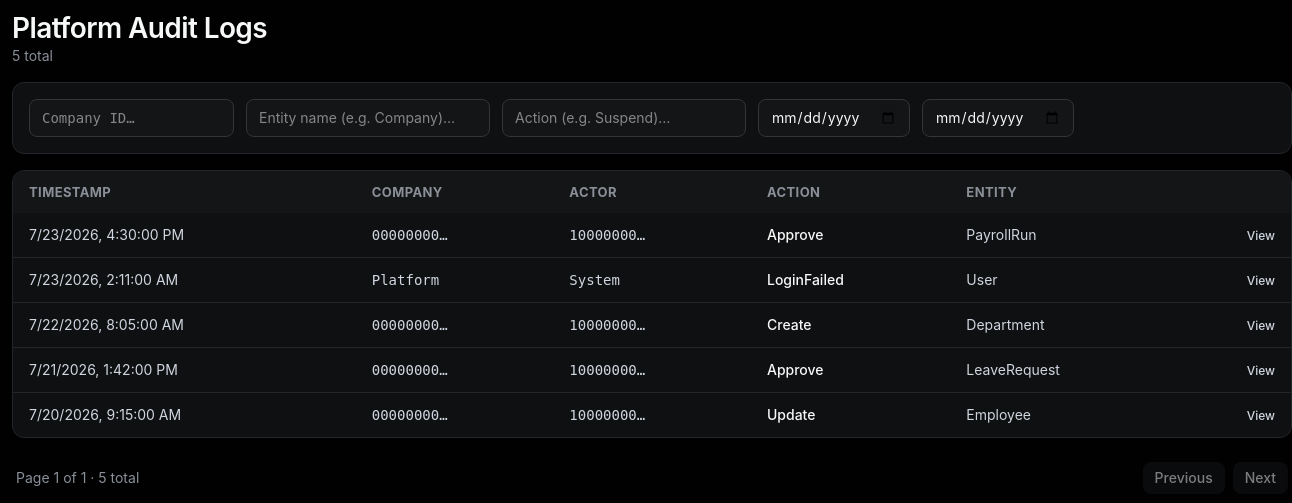
PlatformAuditLogsPage › filters by company id
The image size is (1292, 503).
Type "00000000-0000-0000-0000-00000000c001" into the field with placeholder "Company ID…" at (132, 118), box left=29, top=99, right=234, bottom=137
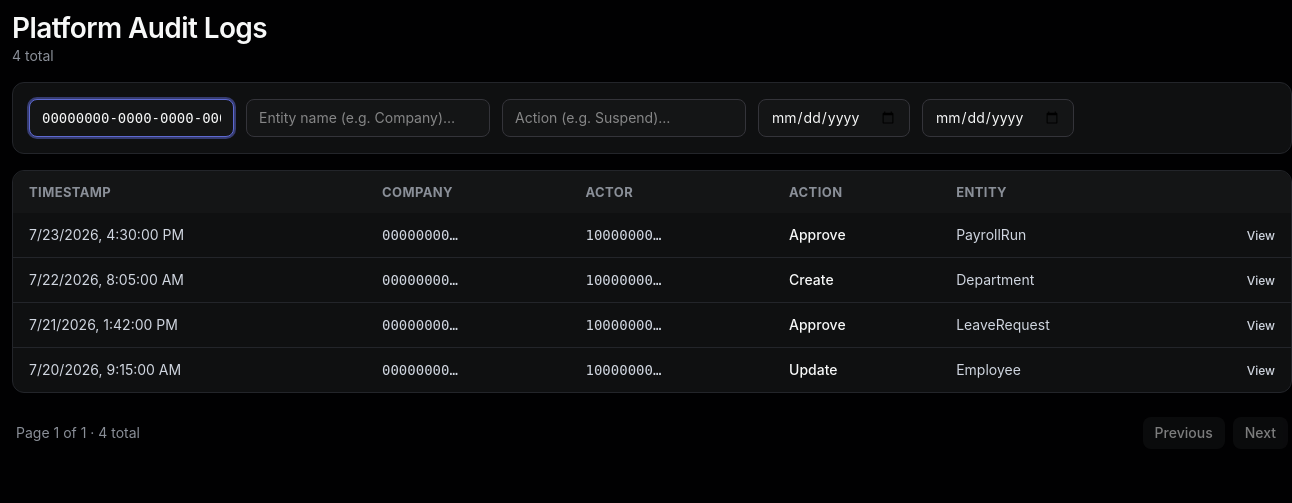
Expected: the text "4 total" is shown, left=12, top=47, right=54, bottom=64
